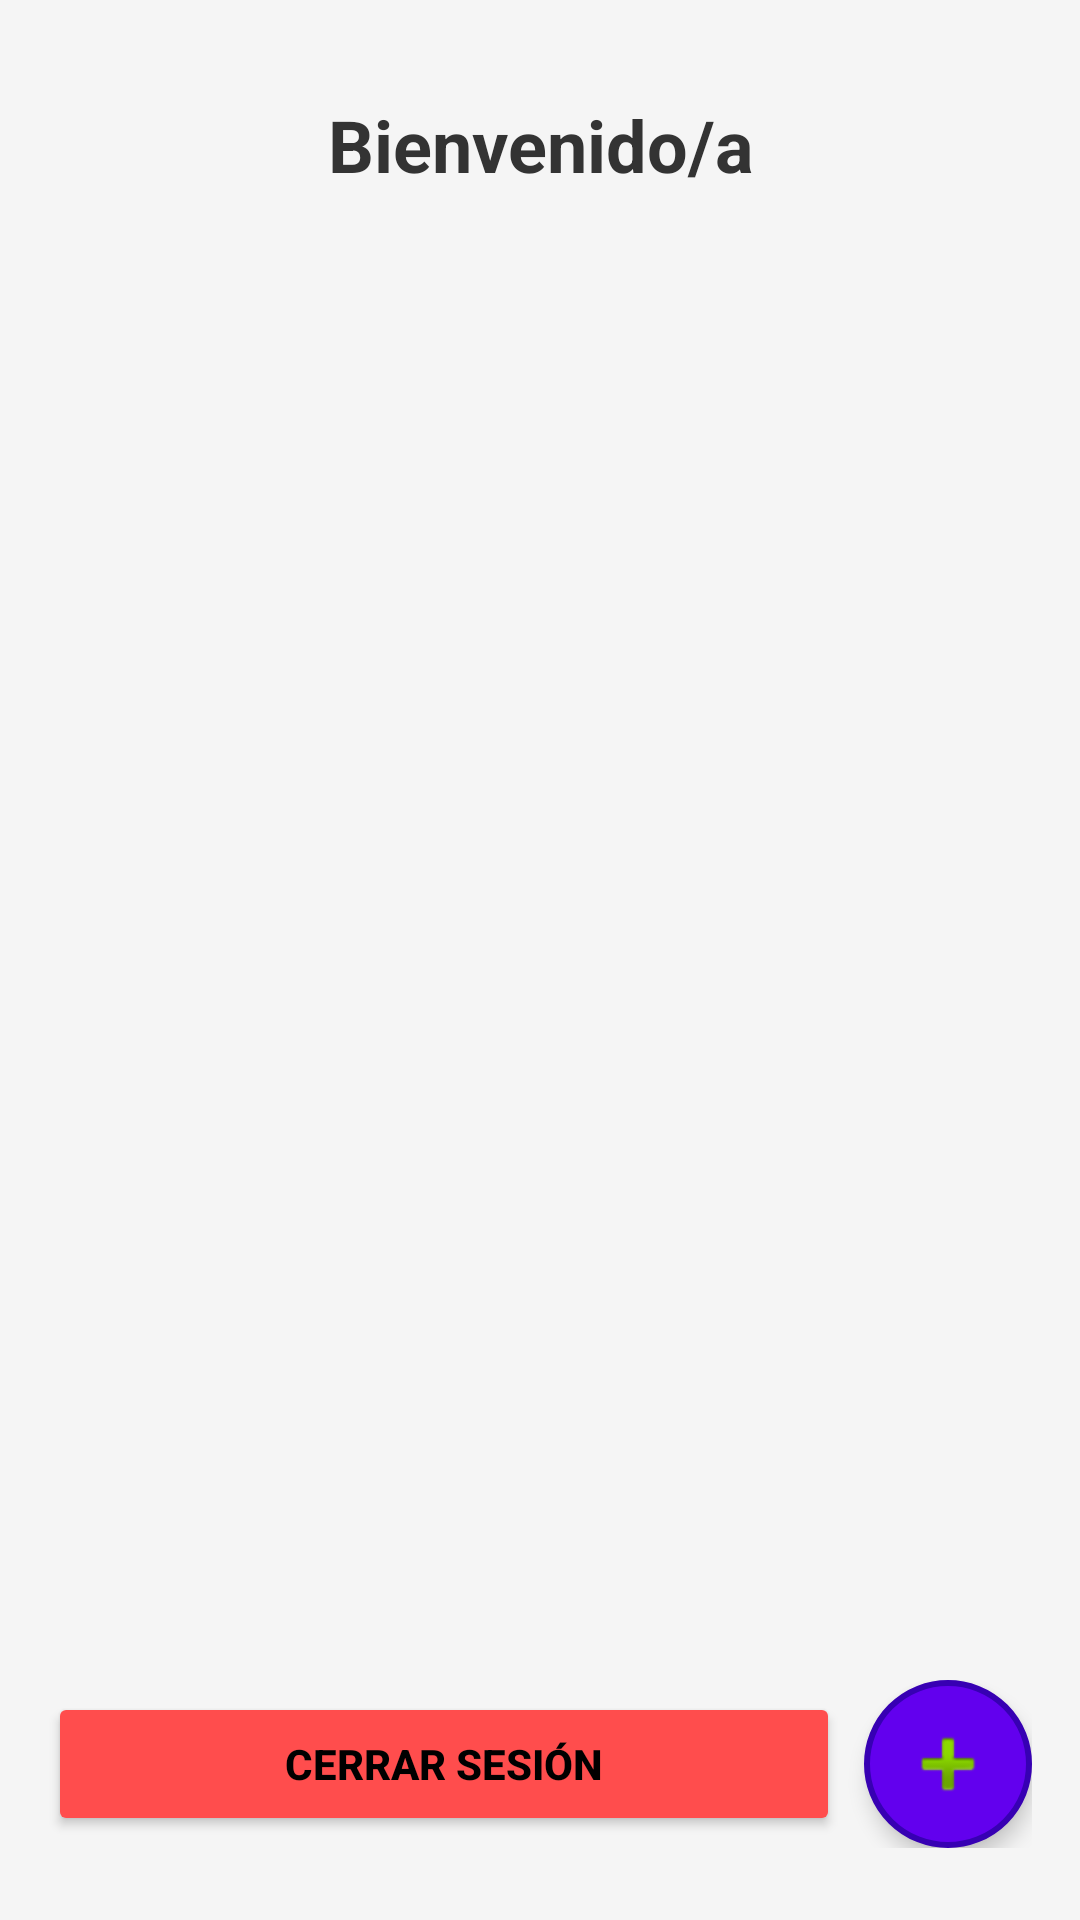

Named icons in this screenshot (1080x1920) and their centers, [x,y]:
Crear evento: [948,1764]
